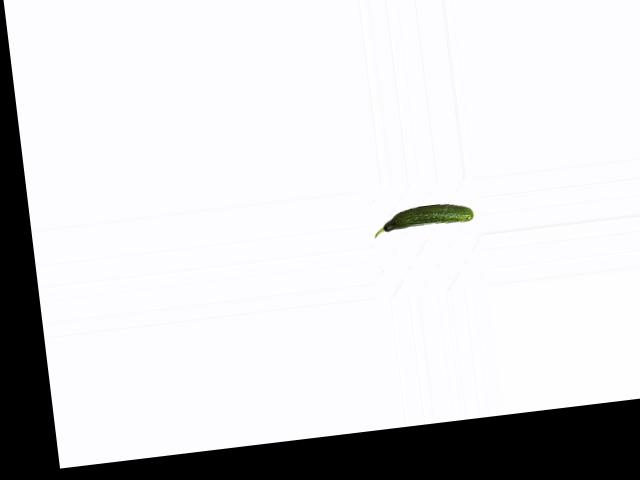cucumber: (371, 200, 474, 237)
